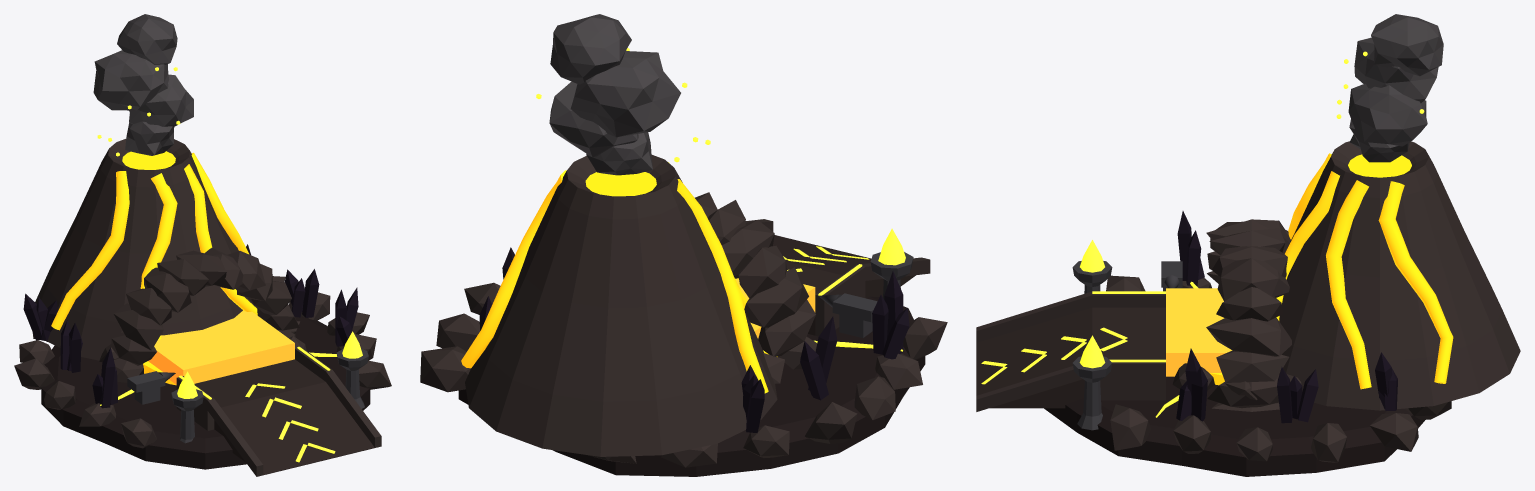
The model's file is VolcanoForgeFurnace_Roblox.fbx.
The picture shows the model from 3 angles, left to right: view 1: azimuth 30°, elevation 25°; view 2: azimuth 150°, elevation 25°; view 3: azimuth 270°, elevation 25°; orthographic projection. The views are drawn at different scales.
Visible parts, largest first — view 1: BasaltRock, Conveyor, CooledLava, Smoke, Lava, BurnZone, Obsidian, ForgeIron, LavaNeon; view 2: BasaltRock, Smoke, CooledLava, Lava, Obsidian, Conveyor, ForgeIron, LavaNeon; view 3: BasaltRock, CooledLava, Conveyor, Smoke, Lava, Obsidian, BurnZone, ForgeIron, LavaNeon.
Boxes of the visible parts, box(x1,y1,x2,y2) form: BasaltRock: box(14, 139, 391, 476); Conveyor: box(195, 359, 374, 475); CooledLava: box(41, 316, 370, 469); Smoke: box(93, 14, 193, 155); Lava: box(51, 151, 257, 385); BurnZone: box(148, 310, 294, 384); Obsidian: box(23, 244, 358, 408); ForgeIron: box(127, 349, 368, 443); LavaNeon: box(97, 67, 362, 462); BasaltRock: box(420, 155, 947, 467); Smoke: box(549, 14, 680, 175); CooledLava: box(458, 296, 925, 476); Lava: box(461, 162, 777, 393); Obsidian: box(478, 247, 909, 433); Conveyor: box(773, 235, 915, 335); ForgeIron: box(818, 252, 913, 337); LavaNeon: box(536, 48, 905, 351); BasaltRock: box(976, 141, 1520, 462); CooledLava: box(1044, 376, 1424, 476); Conveyor: box(976, 307, 1165, 408); Smoke: box(1348, 14, 1443, 162); Lava: box(1209, 153, 1453, 389); Obsidian: box(1176, 211, 1397, 423); BurnZone: box(1166, 288, 1232, 376); ForgeIron: box(1072, 261, 1182, 430); LavaNeon: box(981, 51, 1424, 417).
Size of the model in its own units: 1454 by 1392 by 1780.
